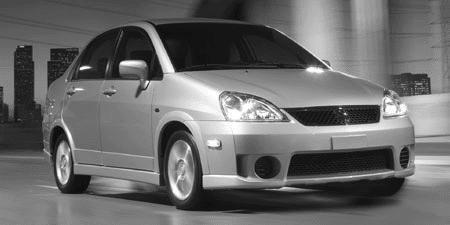car: (44, 21, 420, 210)
